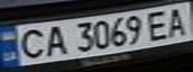0: (90, 17, 112, 51)
3: (69, 19, 93, 53)
6: (109, 16, 130, 47)
9: (124, 12, 148, 46)
A: (160, 4, 193, 38), (39, 23, 69, 57)
C: (12, 27, 51, 61)
E: (142, 8, 175, 42)
